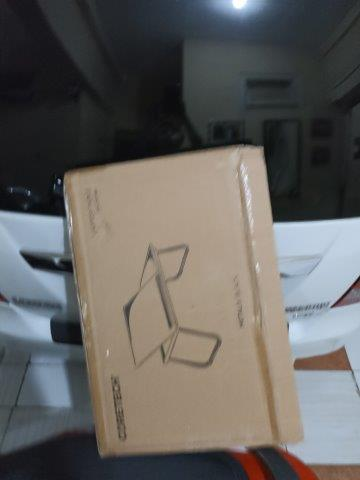kardus: (64, 148, 302, 457)
